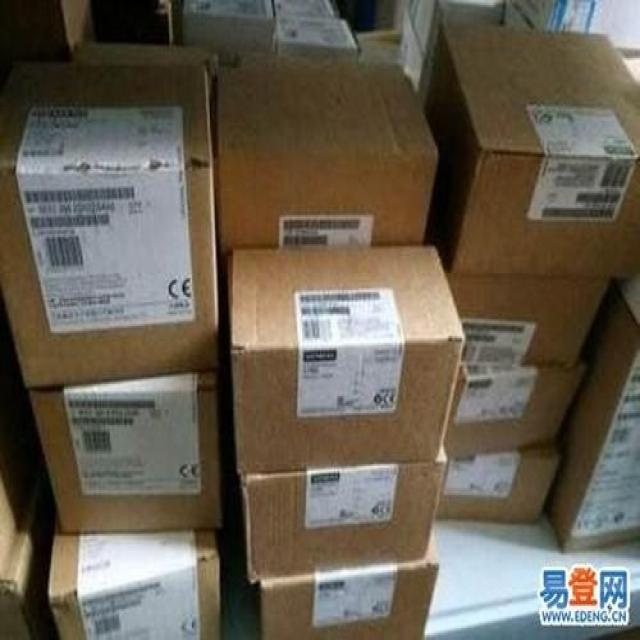box: (0, 58, 220, 391), (225, 246, 466, 473), (422, 27, 640, 276), (216, 65, 436, 253), (29, 369, 220, 534), (239, 447, 449, 584), (545, 276, 640, 555), (49, 532, 219, 638), (261, 539, 440, 638), (448, 275, 611, 367), (443, 365, 584, 461), (435, 439, 559, 526), (0, 476, 60, 638), (404, 0, 507, 67), (276, 17, 358, 60), (509, 0, 599, 31), (274, 0, 339, 15)
